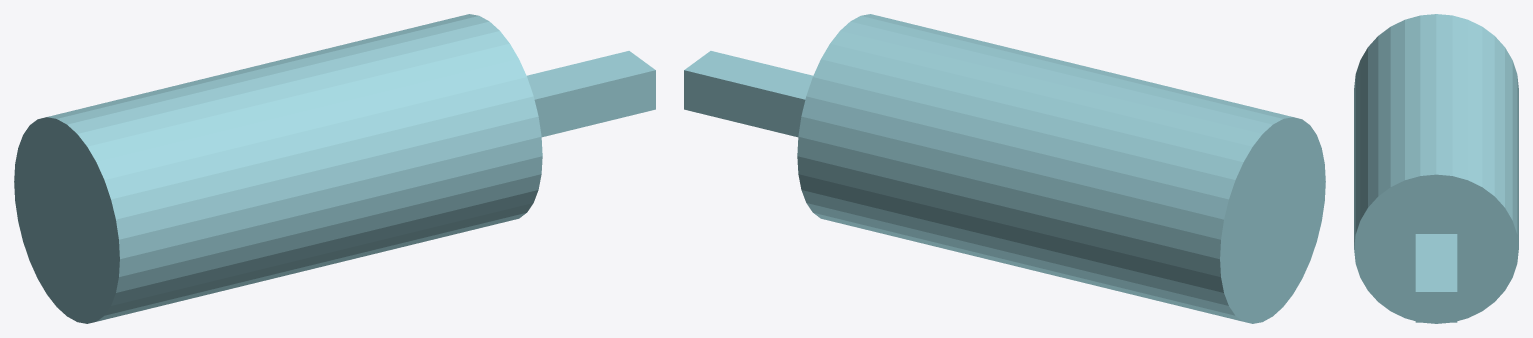
File: cylinder_marker_v4016.obj
3 views of the same model, side by side, from view 1: azimuth 30°, elevation 25°; view 2: azimuth 150°, elevation 25°; view 3: azimuth 270°, elevation 25° (orthographic). The views are drawn at different scales.
Size of the model in its own units: 0.1115 by 0.0355 by 0.0355.
Materials: 1 (1 with a texture image).
